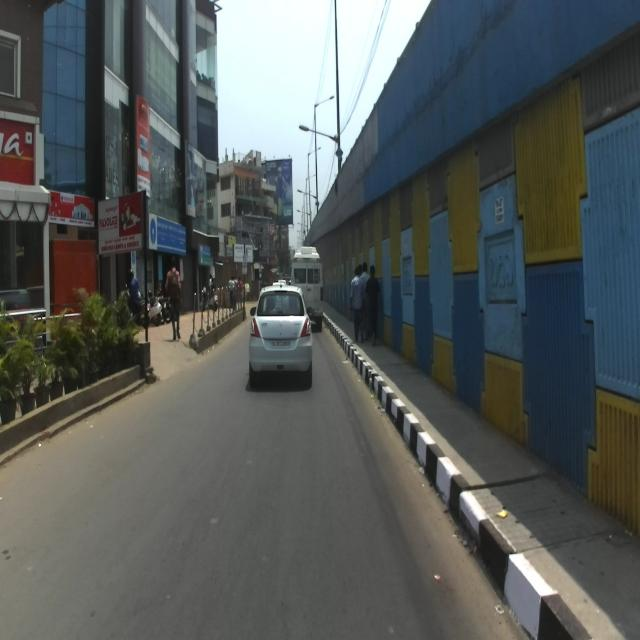Car_Maruti-Suzuki: (248, 281, 314, 389)
mini-bus: (285, 234, 333, 336)
